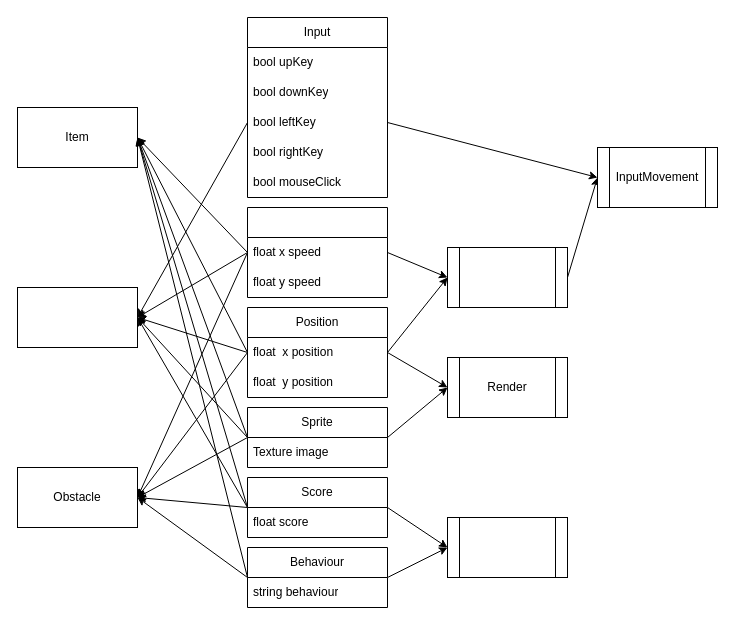
Image size: 735x625. Some labels were removed from this diagram. The shapes that lost their labels are listed below. From the top down, each one's box as (x1, y1, x2, y2) in pixels, then its label:
(246, 206, 388, 298): Velocity
(446, 246, 568, 308): Movement
(16, 286, 138, 348): Player
(446, 516, 568, 578): Event
